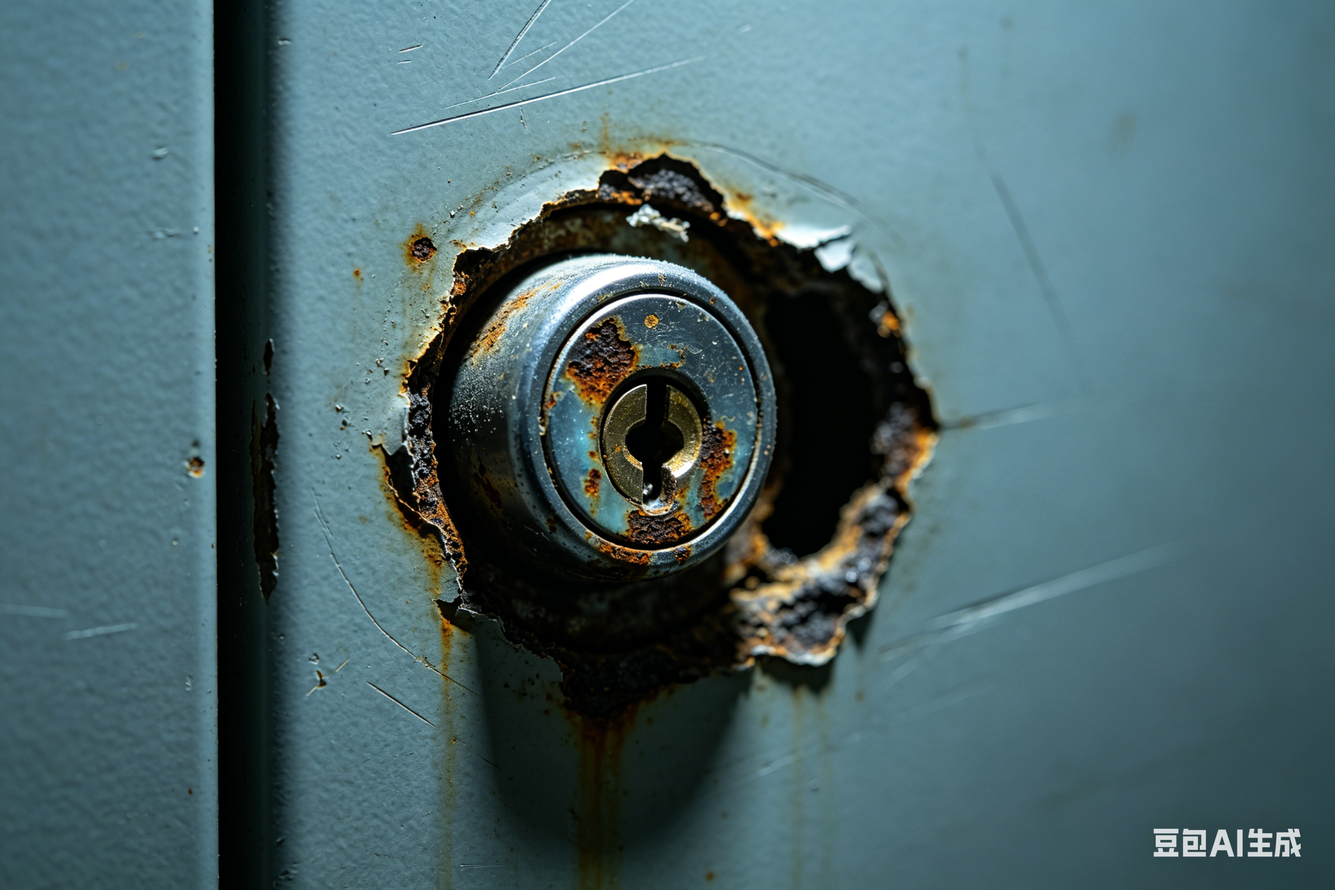BadLock: (420, 212, 870, 662)
